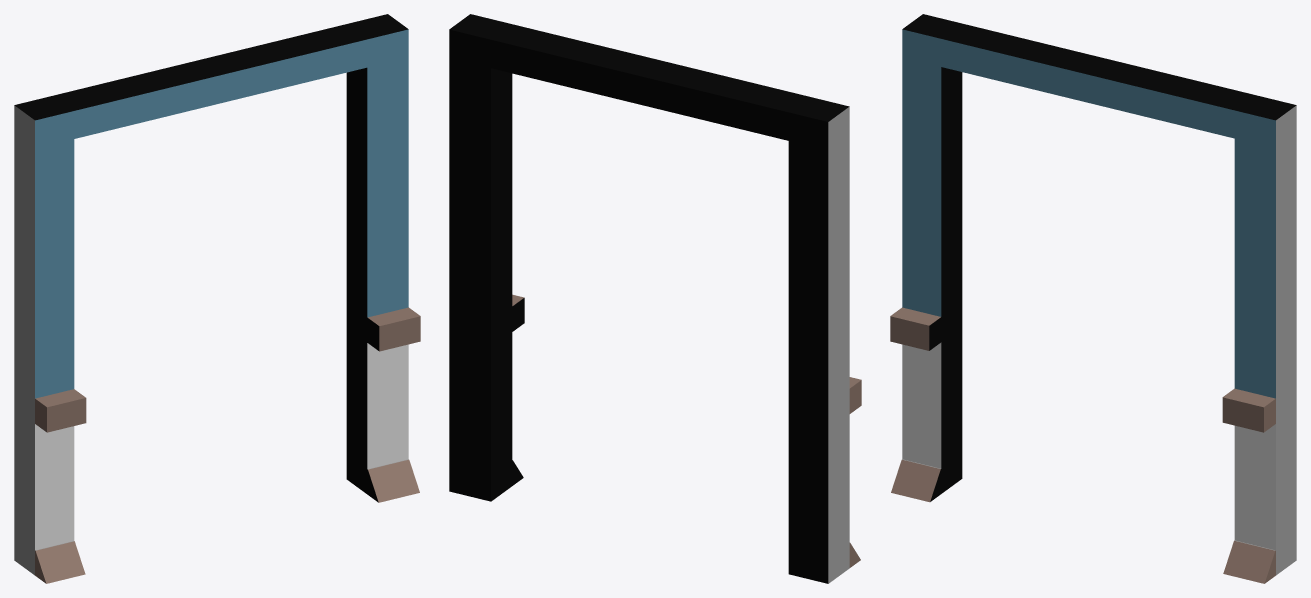
Rendered from mur porte.fbx.
3 views of the same model, side by side, from view 1: azimuth 30°, elevation 25°; view 2: azimuth 150°, elevation 25°; view 3: azimuth 330°, elevation 25° (orthographic).
Visible parts, largest first — view 1: mur_porte; view 2: mur_porte; view 3: mur_porte.
Boxes of the visible parts, x1,y1,x2,y2 form: mur_porte: [14, 14, 420, 583]; mur_porte: [449, 14, 861, 583]; mur_porte: [890, 14, 1296, 583].
Size of the model in its own units: 2.58 by 3 by 0.393.
